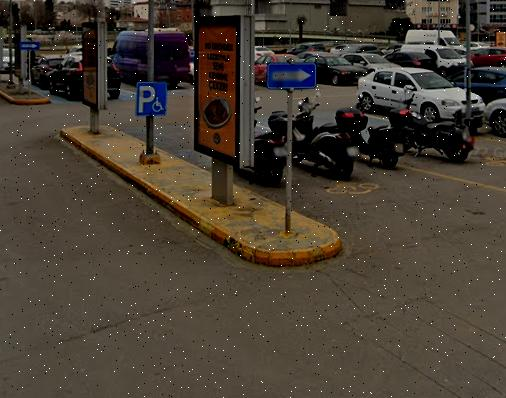park: (137, 83, 166, 115)
